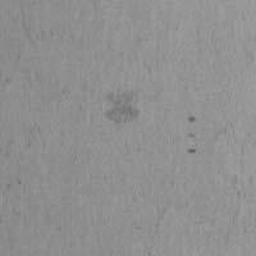Oil spot: (101, 87, 142, 133), (186, 131, 196, 140), (187, 115, 197, 123), (187, 147, 198, 154)
